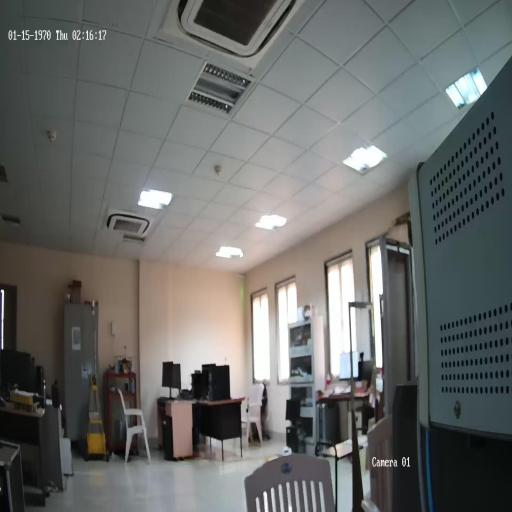laser: (240, 252, 245, 262)
